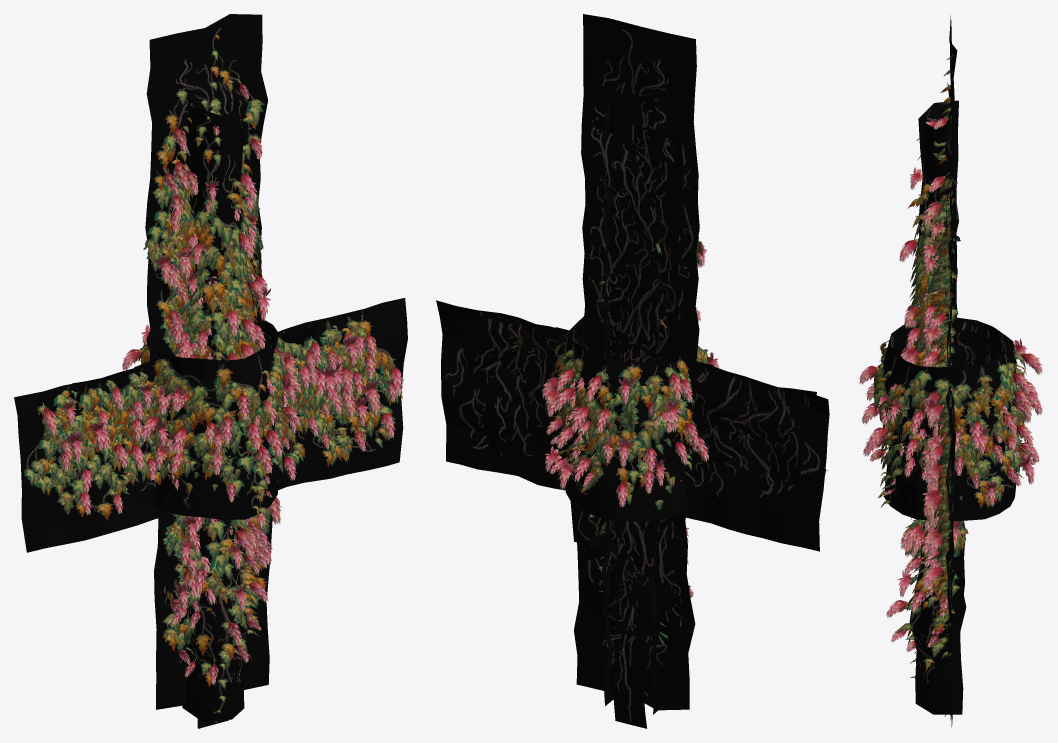
Rendered from IvyFlowering_P.FBX.
3 views of the same model, side by side, from view 1: azimuth 30°, elevation 25°; view 2: azimuth 150°, elevation 25°; view 3: azimuth 270°, elevation 25° (orthographic). The views are drawn at different scales.
Parts seen in each view (by area): view 1: IvyWallWD_1_FP, IvyCyllUW_2_FP, IvyWallU_2_FP, IvyCyllU_FP, IvyWallWD_2_FP, IvyCyllD_FP, IvyWallD_1_FP, IvyWallU_1_FP, IvyCyllUW_1_FP, IvyWallD_2_FP, IvyWallU_3_FP, IvyWallCD_1_FP; view 2: IvyWallWD_1_FP, IvyWallU_2_FP, IvyCyllUW_2_FP, IvyWallWD_2_FP, IvyWallD_1_FP, IvyWallU_3_FP, IvyWallU_1_FP, IvyWallD_6_FP, IvyCyllUW_1_FP, IvyWallD_2_FP, IvyCyllD_FP, IvyWallD_3_FP (+4 smaller); view 3: IvyCyllUW_2_FP, IvyCyllD_FP, IvyCyllU_FP, IvyWallWD_1_FP, IvyWallU_2_FP, IvyWallU_1_FP, IvyCyllUW_1_FP, IvyWallD_1_FP, IvyWallWD_2_FP, IvyWallU_3_FP, IvyWallCD_1_FP.
Boxes of the visible parts, x1,y1,x2,y2 form: IvyWallWD_1_FP: (14, 298, 407, 552); IvyCyllUW_2_FP: (122, 320, 301, 519); IvyWallU_2_FP: (143, 14, 268, 362); IvyCyllU_FP: (169, 93, 263, 360); IvyWallWD_2_FP: (34, 306, 390, 526); IvyCyllD_FP: (172, 516, 268, 721); IvyWallD_1_FP: (154, 353, 281, 709); IvyWallU_1_FP: (160, 98, 271, 357); IvyCyllUW_1_FP: (150, 339, 282, 496); IvyWallD_2_FP: (163, 341, 261, 629); IvyWallU_3_FP: (168, 114, 254, 359); IvyWallCD_1_FP: (130, 328, 294, 449); IvyWallWD_1_FP: (436, 300, 829, 551); IvyWallU_2_FP: (581, 14, 706, 399); IvyCyllUW_2_FP: (541, 316, 719, 521); IvyWallWD_2_FP: (454, 313, 816, 518); IvyWallD_1_FP: (574, 329, 695, 710); IvyWallU_3_FP: (602, 117, 683, 361); IvyWallU_1_FP: (588, 79, 700, 362); IvyWallD_6_FP: (613, 330, 647, 728); IvyCyllUW_1_FP: (565, 334, 697, 510); IvyWallD_2_FP: (584, 343, 680, 650); IvyCyllD_FP: (589, 347, 688, 714); IvyWallD_3_FP: (590, 336, 673, 611); IvyCyllUW_2_FP: (859, 317, 1042, 521); IvyCyllD_FP: (886, 344, 968, 714); IvyCyllU_FP: (899, 100, 960, 367); IvyWallWD_1_FP: (922, 381, 956, 596); IvyWallU_2_FP: (922, 15, 959, 366); IvyWallU_1_FP: (919, 83, 954, 366); IvyCyllUW_1_FP: (877, 330, 1024, 501); IvyWallD_1_FP: (922, 363, 956, 720); IvyWallWD_2_FP: (926, 384, 955, 555); IvyWallU_3_FP: (920, 164, 957, 367); IvyWallCD_1_FP: (924, 366, 953, 425).
Bounding box in the file's own units: 183 × 315 × 77.78.
